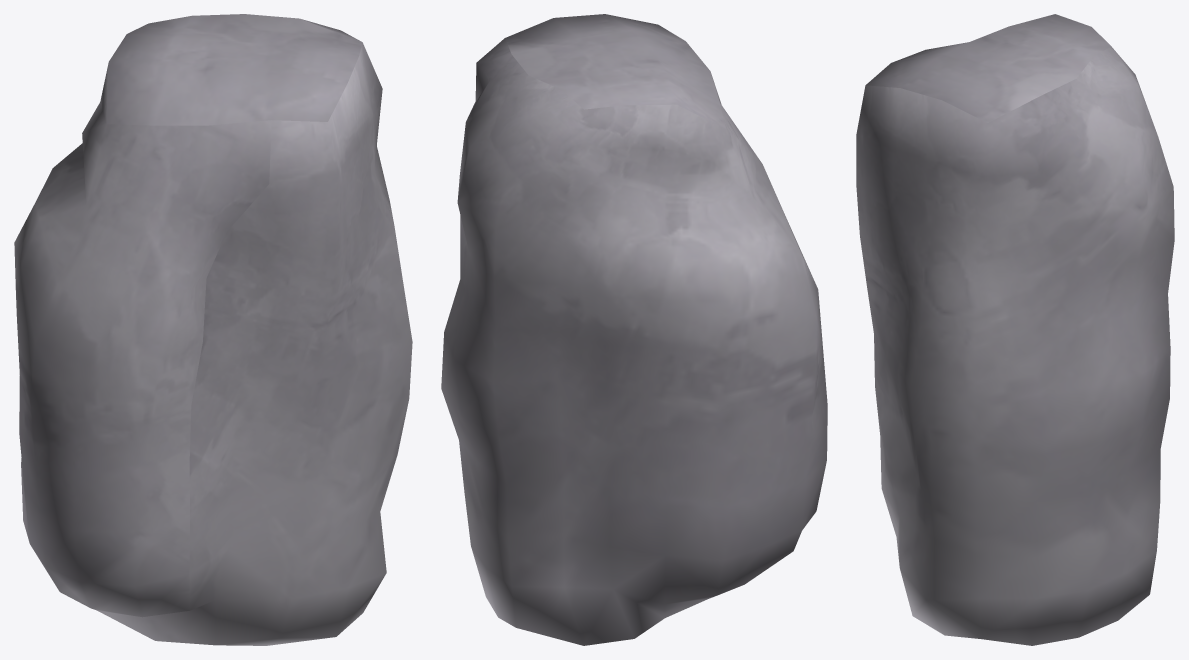
Rendered from Rock_2.fbx.
3 views of the same model, side by side, from view 1: azimuth 30°, elevation 25°; view 2: azimuth 150°, elevation 25°; view 3: azimuth 270°, elevation 25° (orthographic). The views are drawn at different scales.
Parts seen in each view (by area): view 1: Rock_2; view 2: Rock_2; view 3: Rock_2.
Boxes of the visible parts, x1=… form: Rock_2: x1=14, y1=14, x2=412, y2=645; Rock_2: x1=441, y1=14, x2=827, y2=645; Rock_2: x1=856, y1=14, x2=1174, y2=645.
Bounding box in the file's own units: 5.03 × 7.54 × 3.98.
